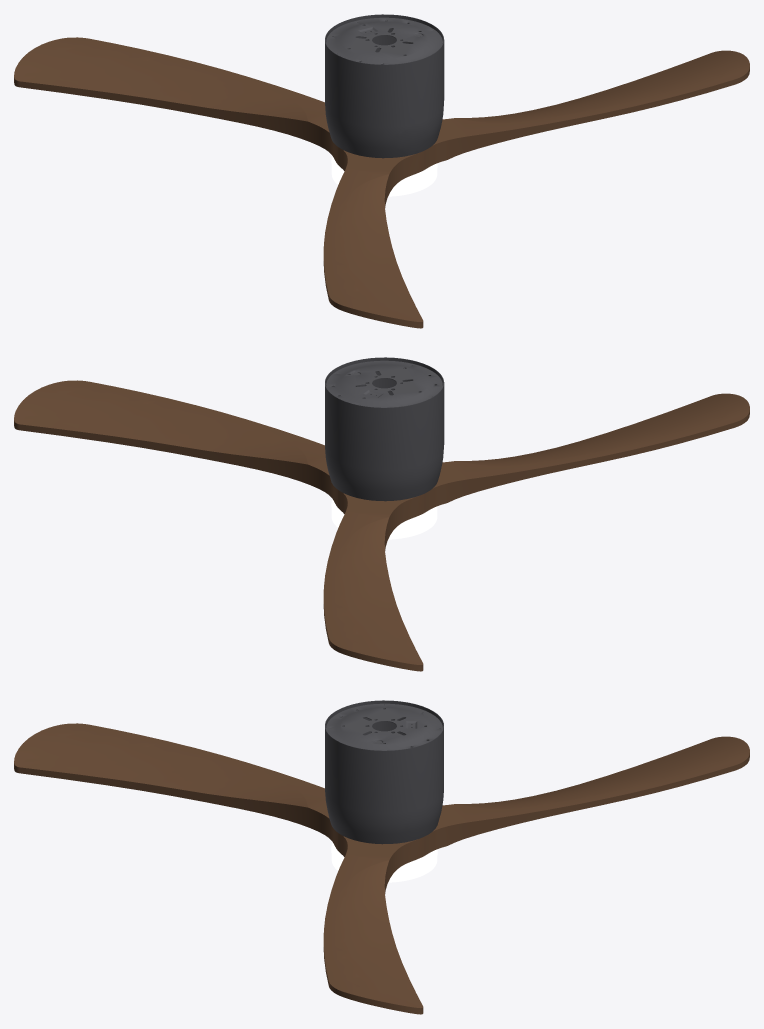
Rendered from fan-3372B.glb.
3 renders of one model, top to bottom at view 1: azimuth 30°, elevation 25°; view 2: azimuth 150°, elevation 25°; view 3: azimuth 270°, elevation 25°, orthographic.
Visible parts, largest first — view 1: blades, motor, canopy, led; view 2: blades, motor, canopy, led; view 3: blades, motor, canopy, led.
Part boxes in pixels (left/top/right/bottom): blades: left=14, top=37, right=749, bottom=328; motor: left=325, top=14, right=444, bottom=158; canopy: left=326, top=17, right=442, bottom=64; led: left=331, top=156, right=437, bottom=196; blades: left=14, top=380, right=749, bottom=671; motor: left=325, top=357, right=444, bottom=501; canopy: left=326, top=360, right=442, bottom=407; led: left=331, top=499, right=437, bottom=539; blades: left=14, top=723, right=749, bottom=1014; motor: left=325, top=700, right=443, bottom=844; canopy: left=326, top=703, right=442, bottom=750; led: left=331, top=842, right=437, bottom=882.
Bounding box in the file's own units: 1.05 × 0.2395 × 1.18.
